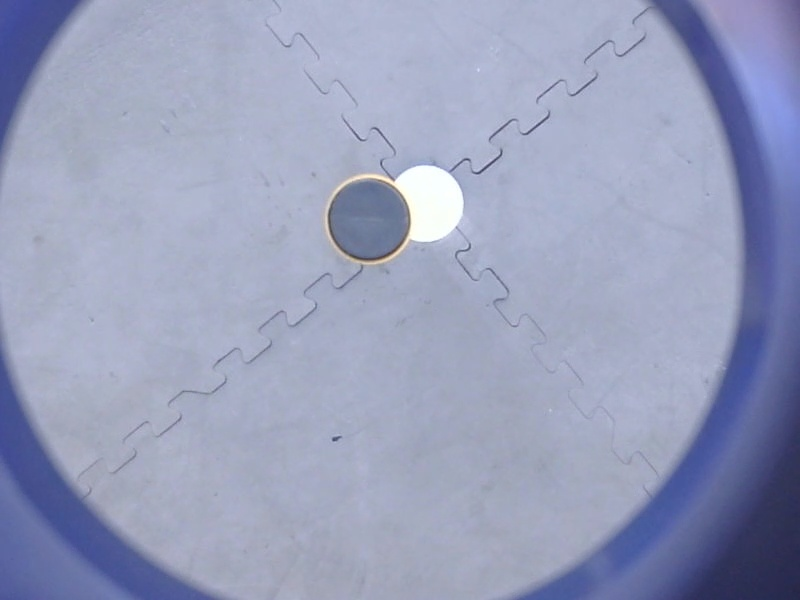tip: (322, 171, 419, 271)
